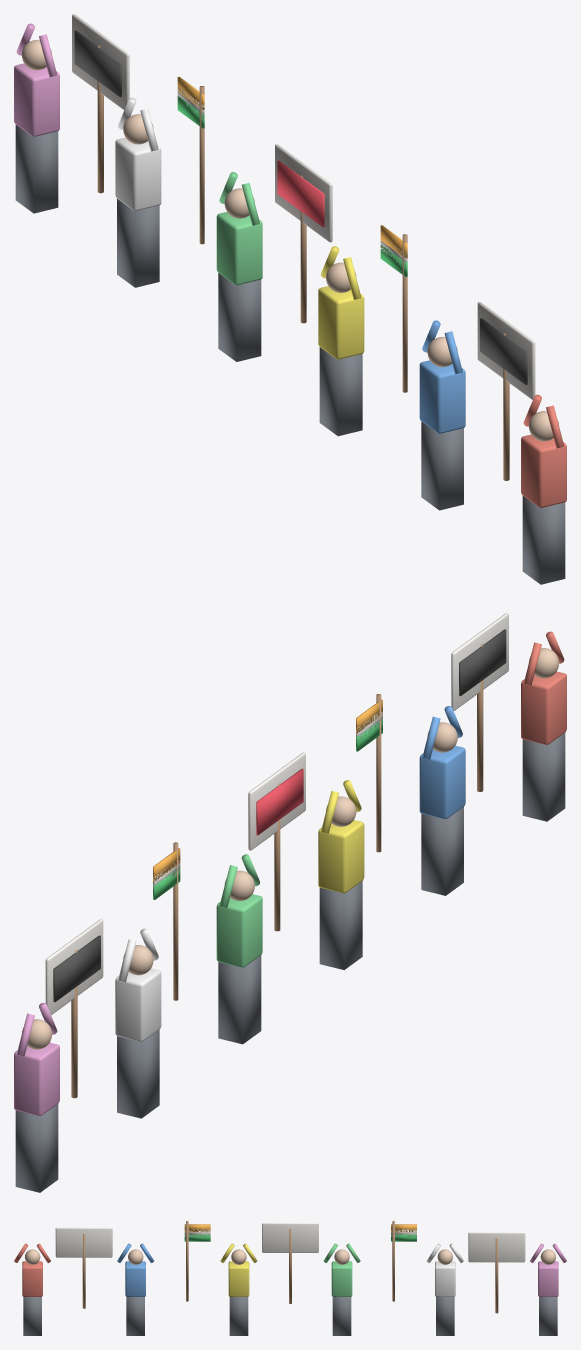
The model's file is crowd_sidewalk.glb.
3 views of the same model, one above another, from view 1: azimuth 30°, elevation 25°; view 2: azimuth 150°, elevation 25°; view 3: azimuth 270°, elevation 25° (orthographic). The views are drawn at different scales.
Parts seen in each view (by area): view 1: CrowdLegs_0, CrowdLegs_5, CrowdLegs_2, CrowdLegs_3, CrowdLegs_4, CrowdLegs_1, CrowdTorso_3, CrowdTorso_4, CrowdTorso_2, CrowdTorso_1, CrowdTorso_0, CrowdTorso_5 (+11 smaller); view 2: CrowdLegs_0, CrowdLegs_3, CrowdLegs_5, CrowdLegs_2, CrowdLegs_4, CrowdLegs_1, CrowdTorso_2, CrowdTorso_1, CrowdTorso_3, CrowdTorso_4, CrowdTorso_5, CrowdTorso_0 (+11 smaller); view 3: Sign_Jobs_Board, Sign_Support_Board, Sign_Leadership_Board, CrowdLegs_2, CrowdLegs_3, CrowdTorso_2, CrowdTorso_3, CrowdLegs_0, CrowdLegs_1, CrowdLegs_4, CrowdLegs_5, CrowdTorso_0 (+18 smaller).
Part boxes in pixels (left/top/right/bottom): CrowdLegs_0: left=522, top=495, right=565, bottom=584; CrowdLegs_5: left=15, top=124, right=58, bottom=213; CrowdLegs_2: left=319, top=347, right=362, bottom=436; CrowdLegs_3: left=218, top=273, right=261, bottom=361; CrowdLegs_4: left=117, top=198, right=159, bottom=287; CrowdLegs_1: left=421, top=421, right=463, bottom=510; CrowdTorso_3: left=216, top=212, right=262, bottom=285; CrowdTorso_4: left=115, top=137, right=161, bottom=210; CrowdTorso_2: left=318, top=286, right=364, bottom=359; CrowdTorso_1: left=419, top=360, right=465, bottom=433; CrowdTorso_0: left=521, top=434, right=566, bottom=507; CrowdTorso_5: left=14, top=63, right=59, bottom=136; CrowdLegs_0: left=522, top=732, right=565, bottom=821; CrowdLegs_3: left=218, top=955, right=261, bottom=1044; CrowdLegs_5: left=15, top=1104, right=58, bottom=1192; CrowdLegs_2: left=319, top=881, right=362, bottom=969; CrowdLegs_4: left=117, top=1029, right=159, bottom=1118; CrowdLegs_1: left=421, top=807, right=463, bottom=895; CrowdTorso_2: left=318, top=820, right=364, bottom=893; CrowdTorso_1: left=419, top=745, right=465, bottom=818; CrowdTorso_3: left=216, top=894, right=262, bottom=967; CrowdTorso_4: left=115, top=968, right=161, bottom=1041; CrowdTorso_5: left=14, top=1042, right=59, bottom=1115; CrowdTorso_0: left=521, top=671, right=566, bottom=744; Sign_Jobs_Board: left=55, top=1227, right=112, bottom=1257; Sign_Support_Board: left=468, top=1232, right=525, bottom=1262; Sign_Leadership_Board: left=262, top=1223, right=318, bottom=1252; CrowdLegs_2: left=229, top=1297, right=248, bottom=1335; CrowdLegs_3: left=332, top=1297, right=351, bottom=1335; CrowdTorso_2: left=228, top=1261, right=249, bottom=1296; CrowdTorso_3: left=331, top=1261, right=352, bottom=1296; CrowdLegs_0: left=23, top=1297, right=41, bottom=1335; CrowdLegs_1: left=126, top=1297, right=144, bottom=1335; CrowdLegs_4: left=436, top=1297, right=454, bottom=1335; CrowdLegs_5: left=539, top=1297, right=557, bottom=1335; CrowdTorso_0: left=22, top=1261, right=42, bottom=1296.
Bounding box in the file's own units: 0.34 × 2.45 × 10.72.
